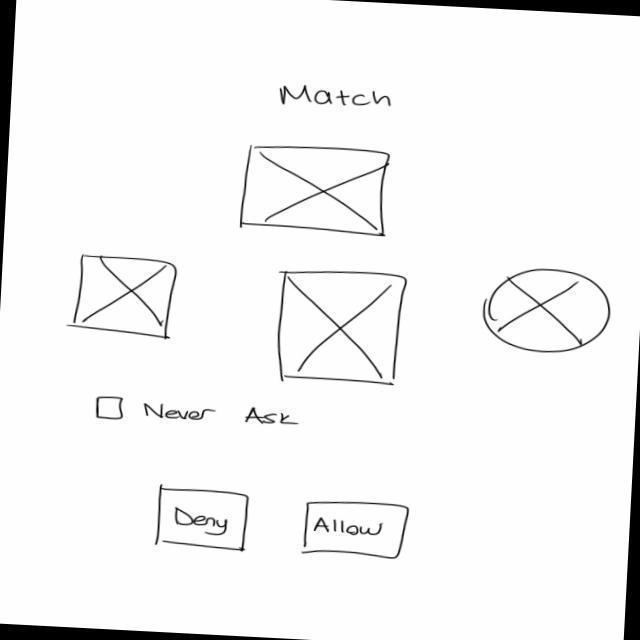button: (299, 497, 413, 562), (152, 485, 253, 556)
checkbox: (94, 394, 302, 433)
image: (274, 266, 410, 390), (239, 142, 397, 241), (480, 265, 616, 359), (70, 252, 179, 343)
label: (277, 82, 397, 117)
